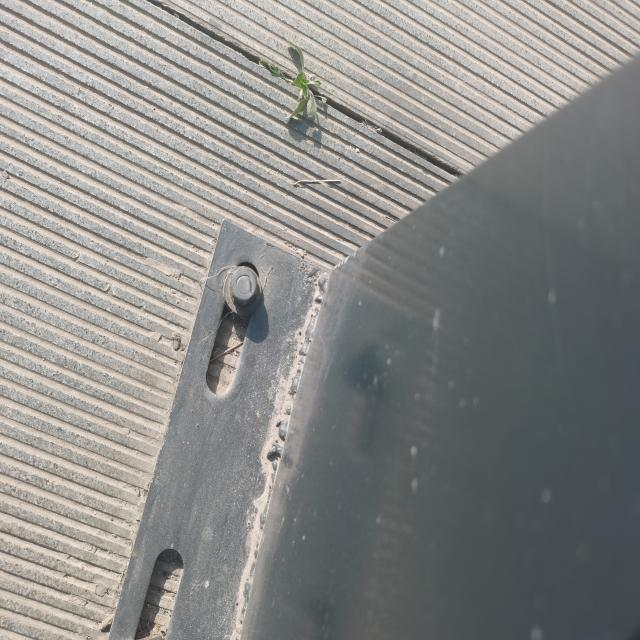bolt nut: (228, 264, 260, 307)
